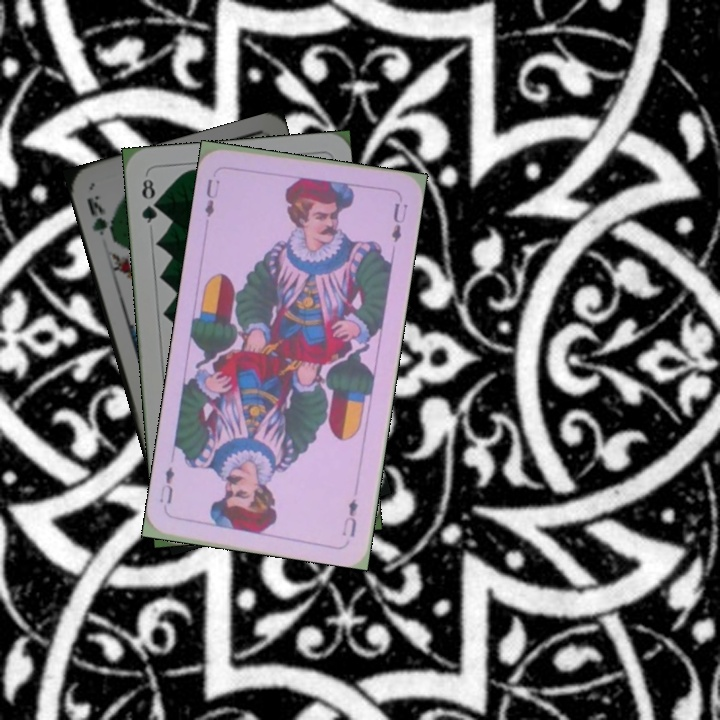EU: (338, 495, 361, 540), (201, 175, 223, 219)
G8: (137, 174, 161, 226)
GK: (82, 191, 117, 243)
